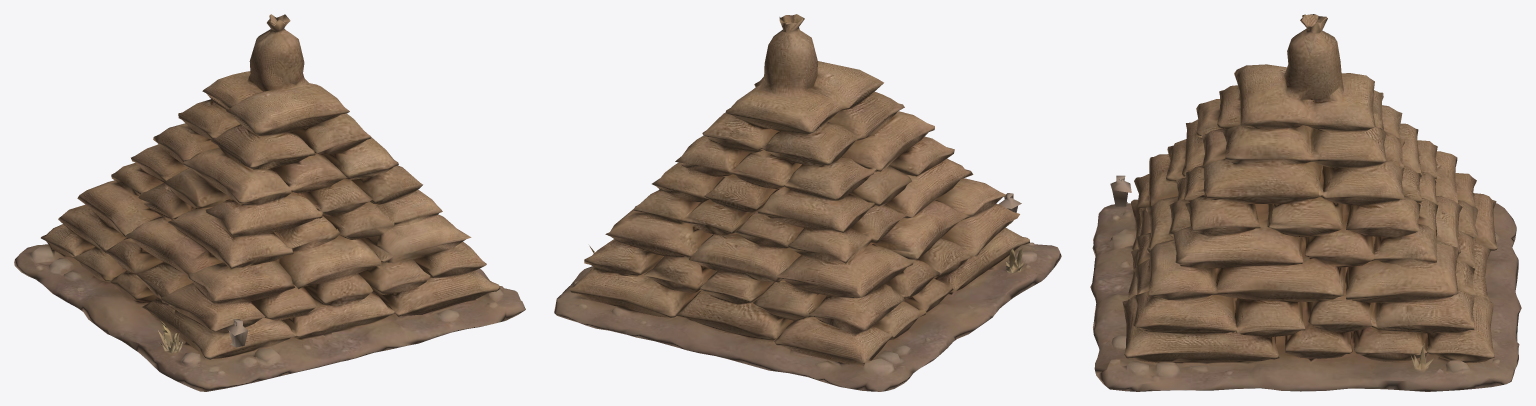
File: kano_pyramid.glb
3 renders of one model, left to right at view 1: azimuth 30°, elevation 25°; view 2: azimuth 150°, elevation 25°; view 3: azimuth 270°, elevation 25°, orthographic. The views are drawn at different scales.
Parts seen in each view (by area): view 1: tripo_node_1057ea77-5e7b-4e6d-9ca2-ffd9d95bc1ca; view 2: tripo_node_1057ea77-5e7b-4e6d-9ca2-ffd9d95bc1ca; view 3: tripo_node_1057ea77-5e7b-4e6d-9ca2-ffd9d95bc1ca.
Part boxes in pixels (left/top/right/bottom): tripo_node_1057ea77-5e7b-4e6d-9ca2-ffd9d95bc1ca: left=14, top=14, right=525, bottom=391; tripo_node_1057ea77-5e7b-4e6d-9ca2-ffd9d95bc1ca: left=554, top=14, right=1061, bottom=391; tripo_node_1057ea77-5e7b-4e6d-9ca2-ffd9d95bc1ca: left=1090, top=14, right=1521, bottom=391.
Size of the model in its own units: 1 by 0.734 by 0.9836.
Materials: 1 (1 with a texture image).
